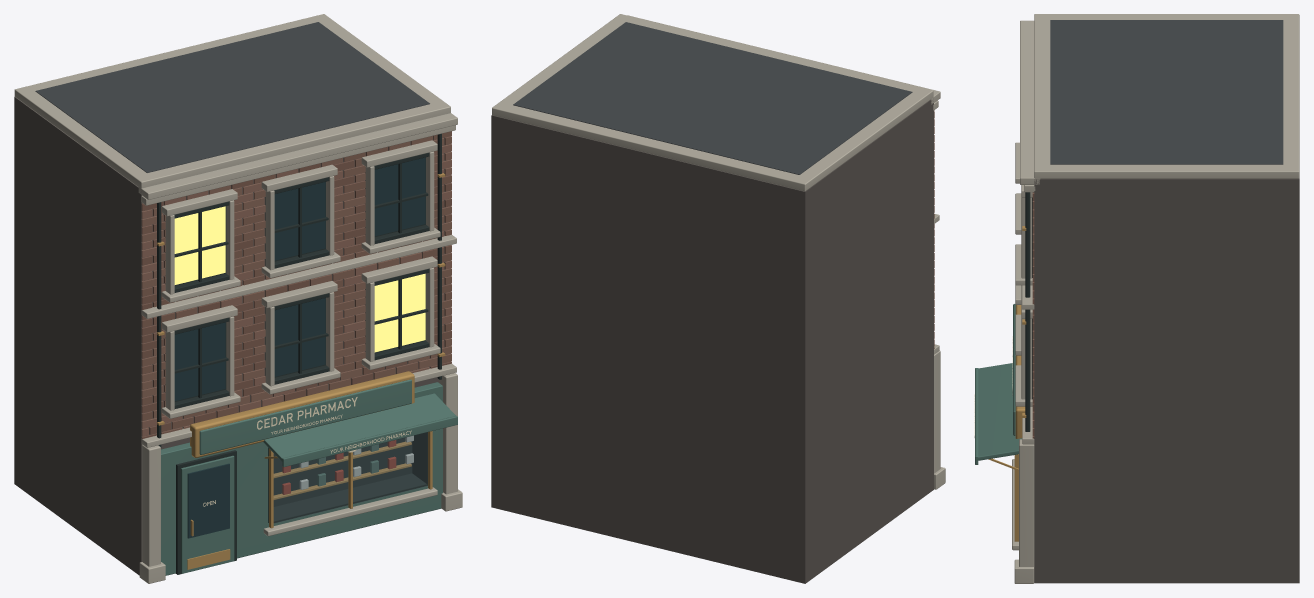
File: district-cedar-pharmacy.glb
3 views of the same model, side by side, from view 1: azimuth 30°, elevation 25°; view 2: azimuth 150°, elevation 25°; view 3: azimuth 270°, elevation 25° (orthographic). The views are drawn at different scales.
Visible parts, largest first — view 1: Existing envelope, District Warm limestone, District Roof membrane, District Charcoal painted metal, District Coffee enamel, District Opaque dark glazing, Roof cap, District Shop window clear glazing, District Brick tone 0, District Warm occupied window, District Brick tone 3, District Brick tone 4 (+6 smaller); view 2: Existing envelope, District Roof membrane, Roof cap, District Warm limestone; view 3: Existing envelope, District Roof membrane, Roof cap, District Warm limestone, District Coffee enamel, District Charcoal painted metal, District Aged brass, Sign brass frame.
Part boxes in pixels (x1,y1,x2,y2): Existing envelope: (14, 96, 450, 575); District Warm limestone: (138, 113, 462, 583); District Roof membrane: (35, 22, 429, 172); District Charcoal painted metal: (157, 133, 441, 574); District Coffee enamel: (161, 382, 457, 575); District Opaque dark glazing: (174, 157, 425, 538); Roof cap: (14, 14, 450, 188); District Shop window clear glazing: (274, 432, 427, 523); District Brick tone 0: (141, 160, 451, 438); District Warm occupied window: (174, 206, 425, 352); District Brick tone 3: (141, 136, 451, 418); District Brick tone 4: (141, 144, 451, 436); Existing envelope: (491, 100, 933, 583); District Roof membrane: (513, 22, 912, 174); Roof cap: (492, 14, 933, 191); District Warm limestone: (627, 15, 945, 489); Existing envelope: (1034, 178, 1299, 583); District Roof membrane: (1050, 20, 1283, 164); Roof cap: (1034, 14, 1299, 178); District Warm limestone: (1012, 20, 1040, 583); District Coffee enamel: (975, 363, 1022, 464); District Charcoal painted metal: (1025, 192, 1032, 431); District Aged brass: (988, 226, 1026, 541); Sign brass frame: (1015, 305, 1025, 438).
Size of the model in its own units: 7.71 by 9.26 by 6.62.
